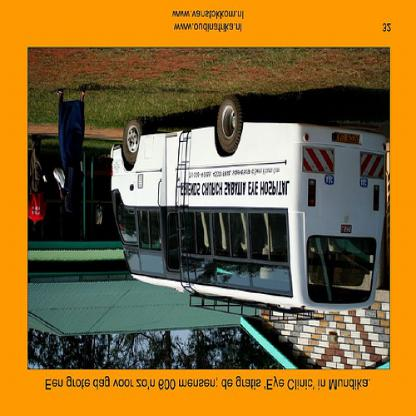bus: (110, 97, 388, 314)
person: (55, 87, 88, 211), (28, 134, 47, 233)
